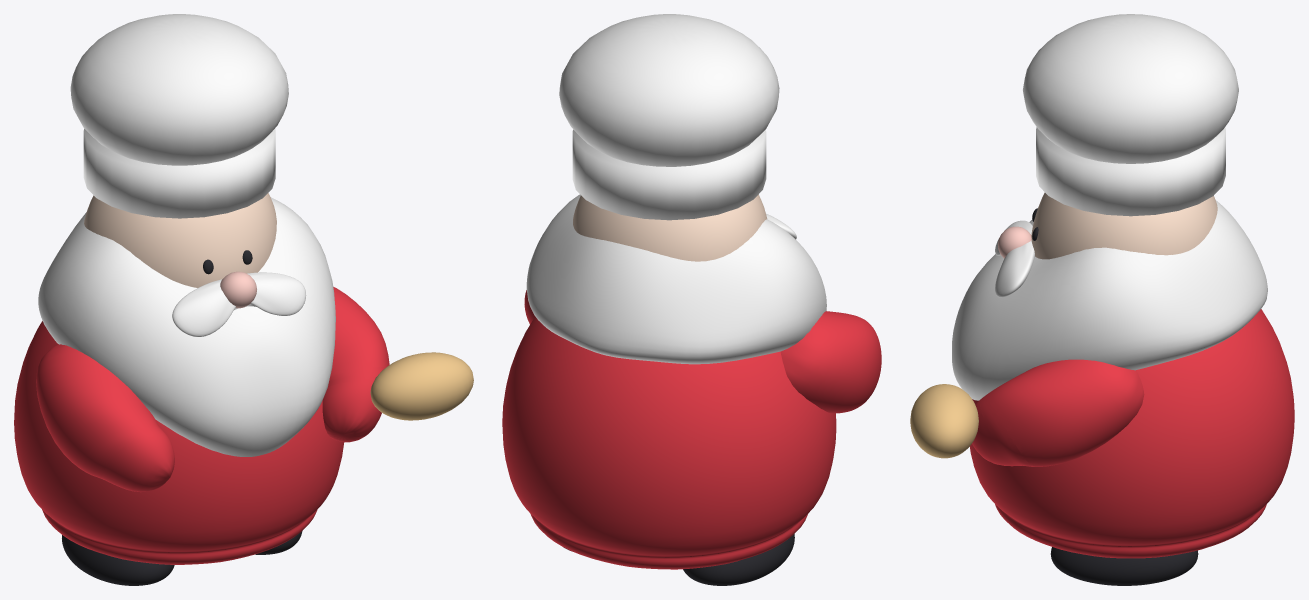
The model's file is baker.glb.
3 renders of one model, left to right at view 1: azimuth 30°, elevation 25°; view 2: azimuth 150°, elevation 25°; view 3: azimuth 270°, elevation 25°, orthographic. The views are drawn at different scales.
Visible parts, largest first — view 1: baker_white, baker_red, baker_skin, baker_bread, baker_black, baker_nose; view 2: baker_white, baker_red, baker_skin, baker_black; view 3: baker_white, baker_red, baker_skin, baker_bread, baker_black, baker_nose.
Boxes of the visible parts, <box> form: baker_white: <box>38,14,335,456</box>; baker_red: <box>14,287,389,564</box>; baker_skin: <box>84,193,276,287</box>; baker_bread: <box>370,352,473,420</box>; baker_black: <box>62,250,302,585</box>; baker_nose: <box>220,271,256,308</box>; baker_white: <box>526,14,826,364</box>; baker_red: <box>502,290,881,569</box>; baker_skin: <box>573,194,767,261</box>; baker_black: <box>563,534,794,585</box>; baker_white: <box>952,14,1267,400</box>; baker_red: <box>969,309,1294,558</box>; baker_skin: <box>1031,192,1217,259</box>; baker_bread: <box>910,384,978,458</box>; baker_black: <box>1032,208,1198,585</box>; baker_nose: <box>998,226,1031,258</box>.
Size of the model in its own units: 2.37 by 3.29 by 2.23.
